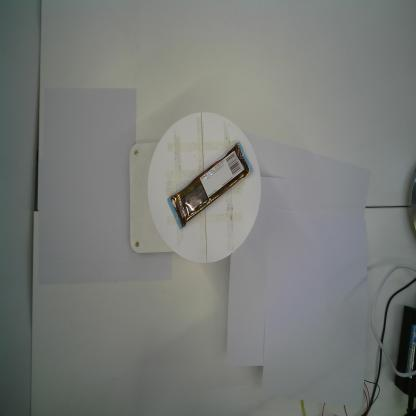Chocolate: (166, 137, 254, 230)
